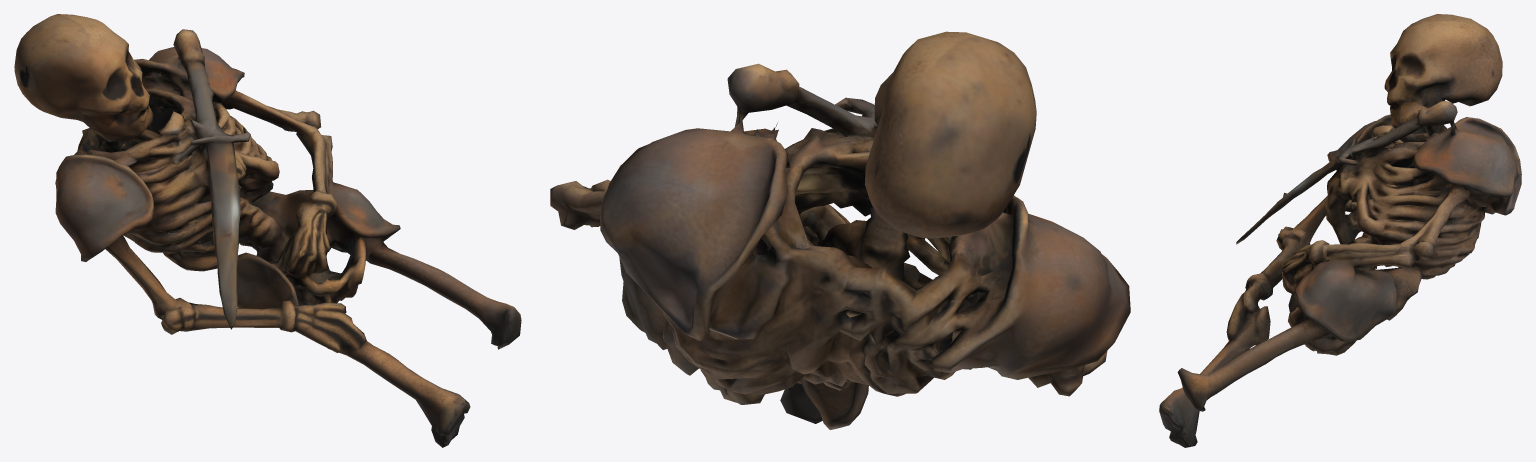
Rendered from skeletal_remains_clutching.glb.
3 renders of one model, left to right at view 1: azimuth 30°, elevation 25°; view 2: azimuth 150°, elevation 25°; view 3: azimuth 270°, elevation 25°, orthographic. The views are drawn at different scales.
Size of the model in its own units: 2 by 1.99 by 1.99.
Materials: 1 (1 with a texture image).
